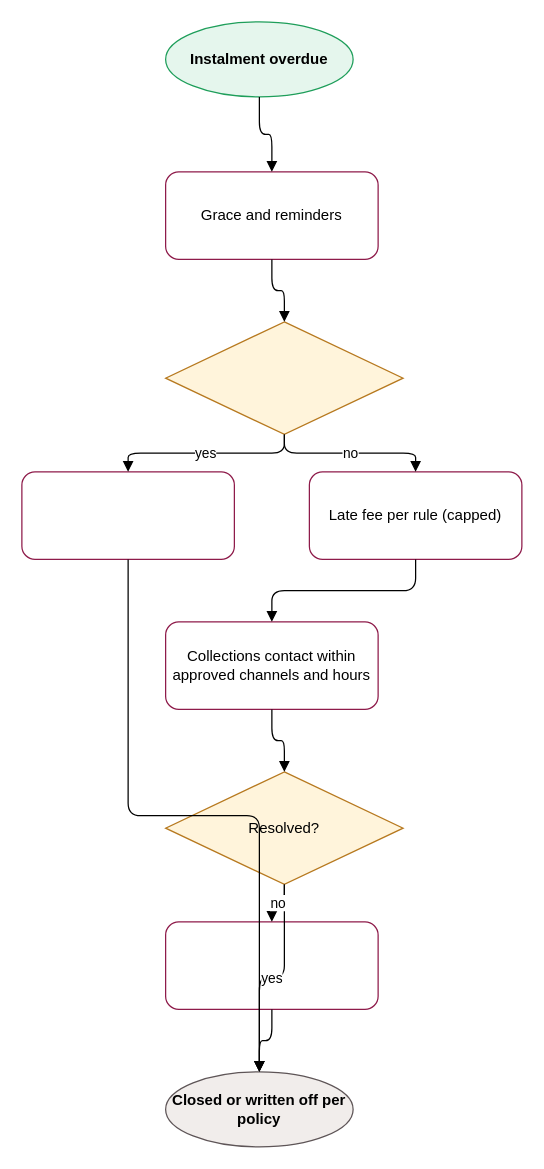
Some shapes in this 544 by 1169 pixel diagram are drawn without their labels. The shapes that lost their labels are listed below. From the top down, each one's centre as x and y in pixels, then its label:
At point 283,377: "Customer requests hardship help?".
At point 127,515: "Review: extension or restructure (approval)".
At point 271,965: "Escalate per policy; no third-party contact".
